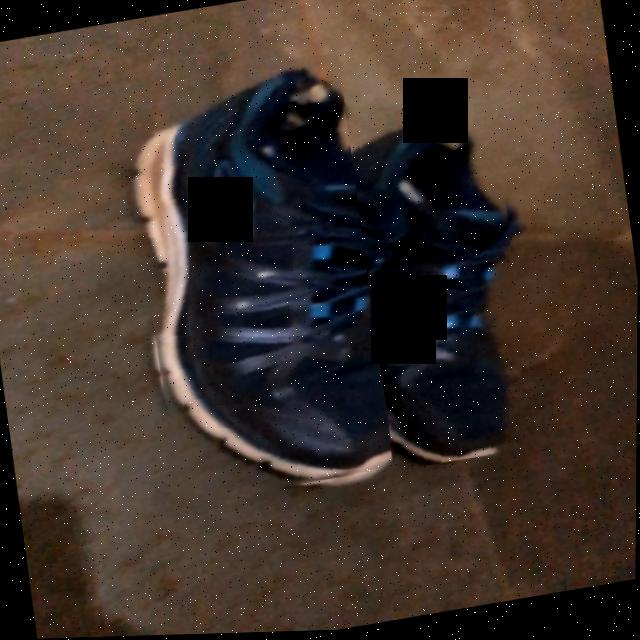shoe: (137, 61, 394, 476), (361, 111, 517, 467)
